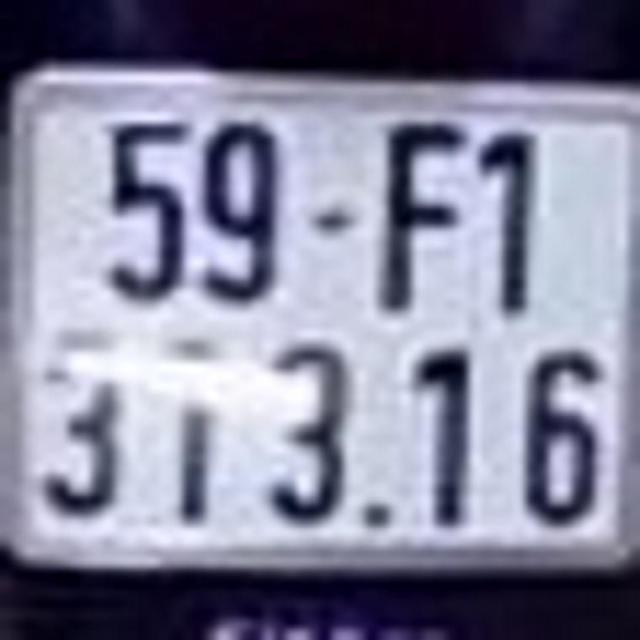1: (481, 134, 535, 308), (413, 358, 469, 524), (164, 344, 211, 521)
3: (273, 342, 346, 518), (46, 362, 125, 507)
5: (108, 120, 188, 291)
6: (533, 344, 599, 526)
9: (202, 121, 272, 297)
F: (380, 119, 465, 312)
